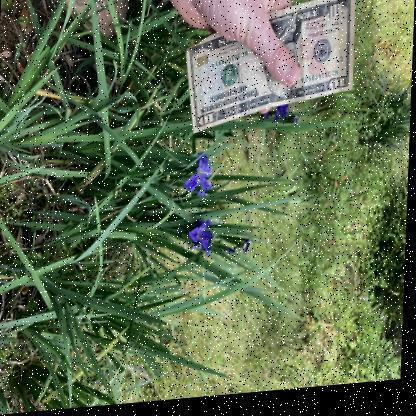dollar_front: (185, 0, 355, 138)
